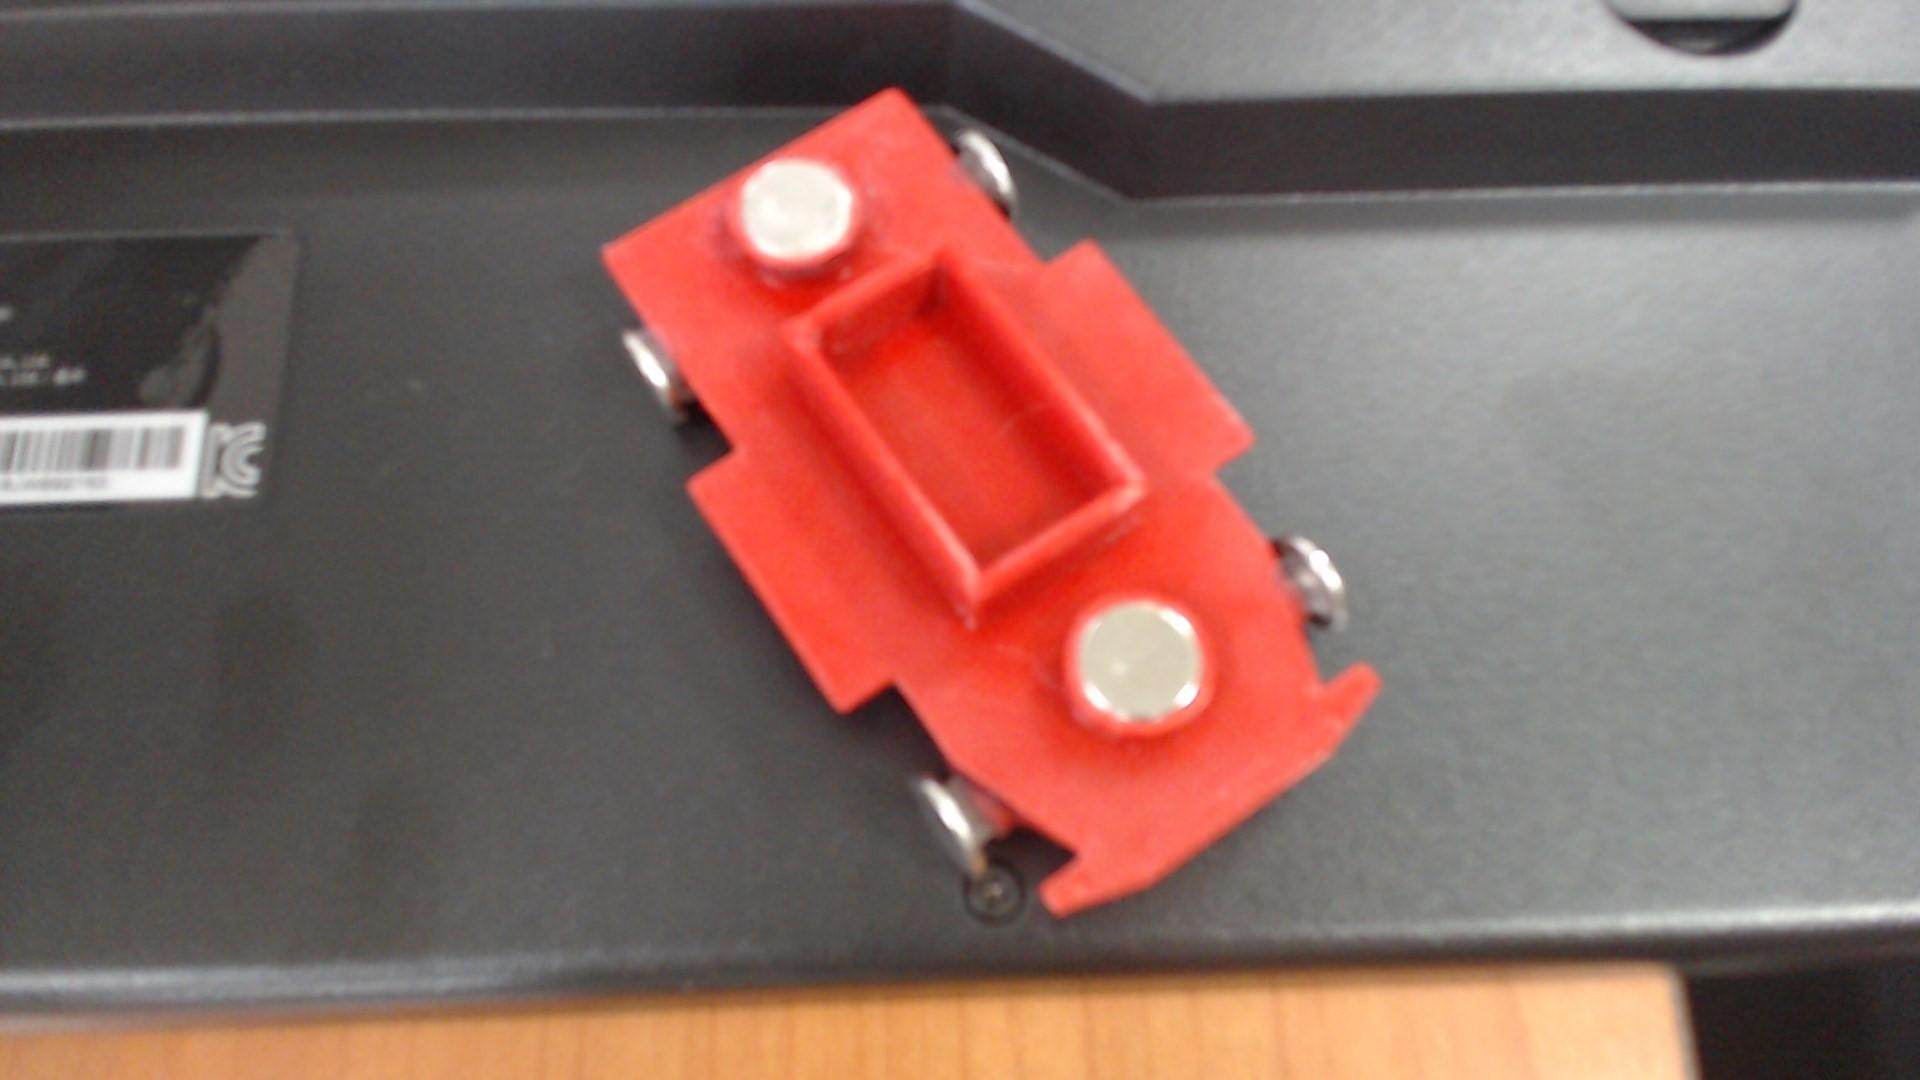lower_ok: (758, 216, 1178, 655)
